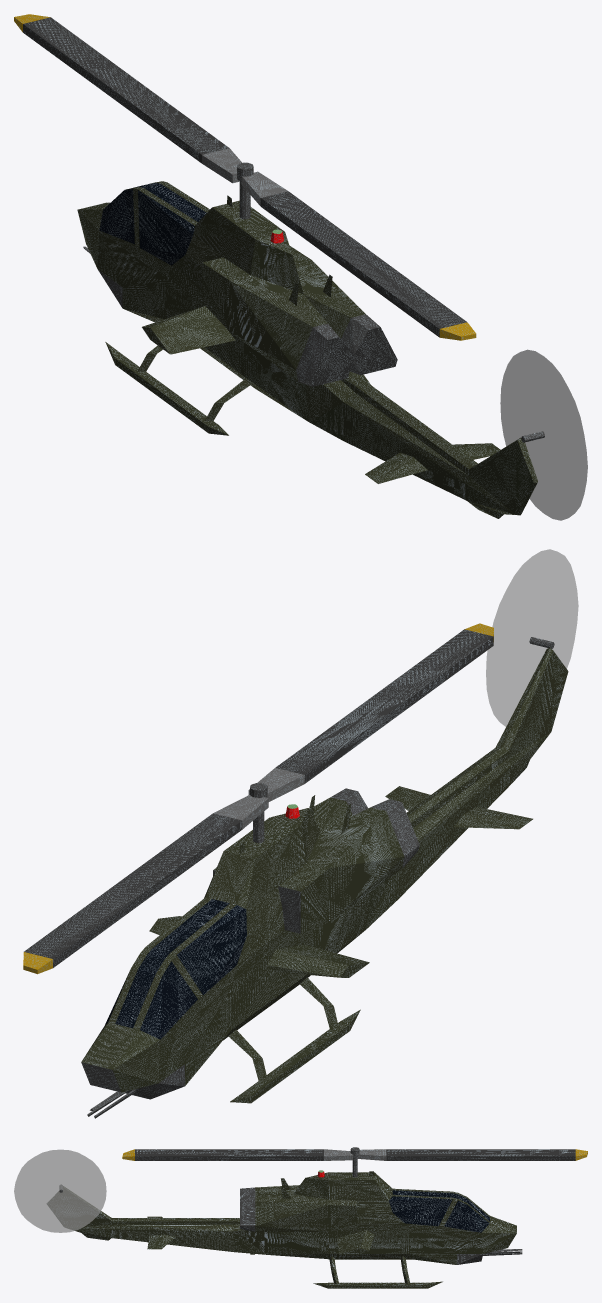
File: RT_5AttackChopper.dae
3 views of the same model, one above another, from view 1: azimuth 30°, elevation 25°; view 2: azimuth 150°, elevation 25°; view 3: azimuth 270°, elevation 25° (orthographic). The views are drawn at different scales.
Parts seen in each view (by area): view 1: AH1W_01_1 (×15); view 2: AH1W_01_1 (×15); view 3: AH1W_01_1 (×14).
Boxes of the visible parts, x1,y1,x2,y2 form: AH1W_01_1 (×15): (23, 17, 587, 520); AH1W_01_1 (×15): (24, 549, 578, 1103); AH1W_01_1 (×14): (14, 1149, 575, 1288).
Bounding box in the file's own units: 3.24 × 16.89 × 4.17.
